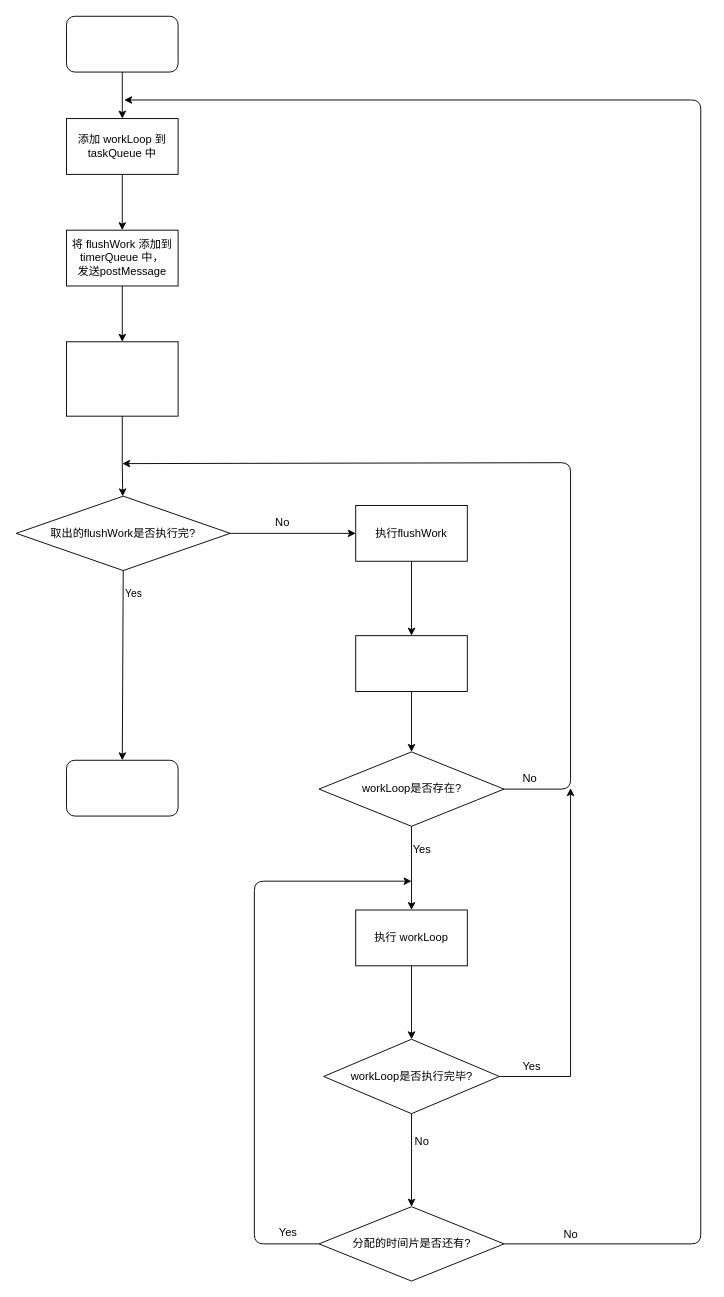
Some shapes in this 724 by 1297 pixel diagram are drawn without their labels. The centre of each missing label's shape, as x and y in pixels:
"下一个EventLoop，收到postMessage， 取出timerQueue中的 所有的flushWork" belongs at (x=122, y=378).
"从taskQueue中取到第一个workLoop" belongs at (x=411, y=663).
"开始" belongs at (x=122, y=43).
"结束" belongs at (x=122, y=787).
